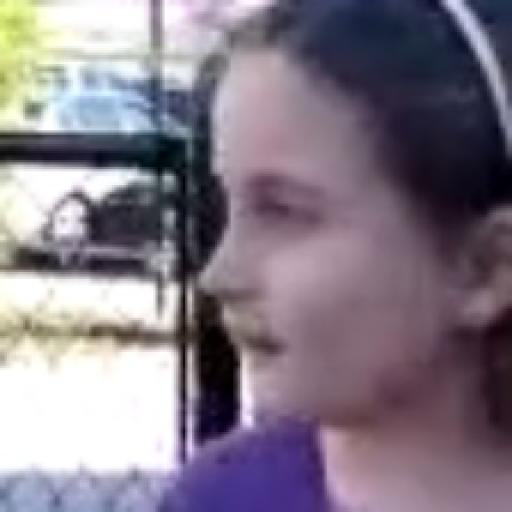Autism: (201, 12, 512, 467)
